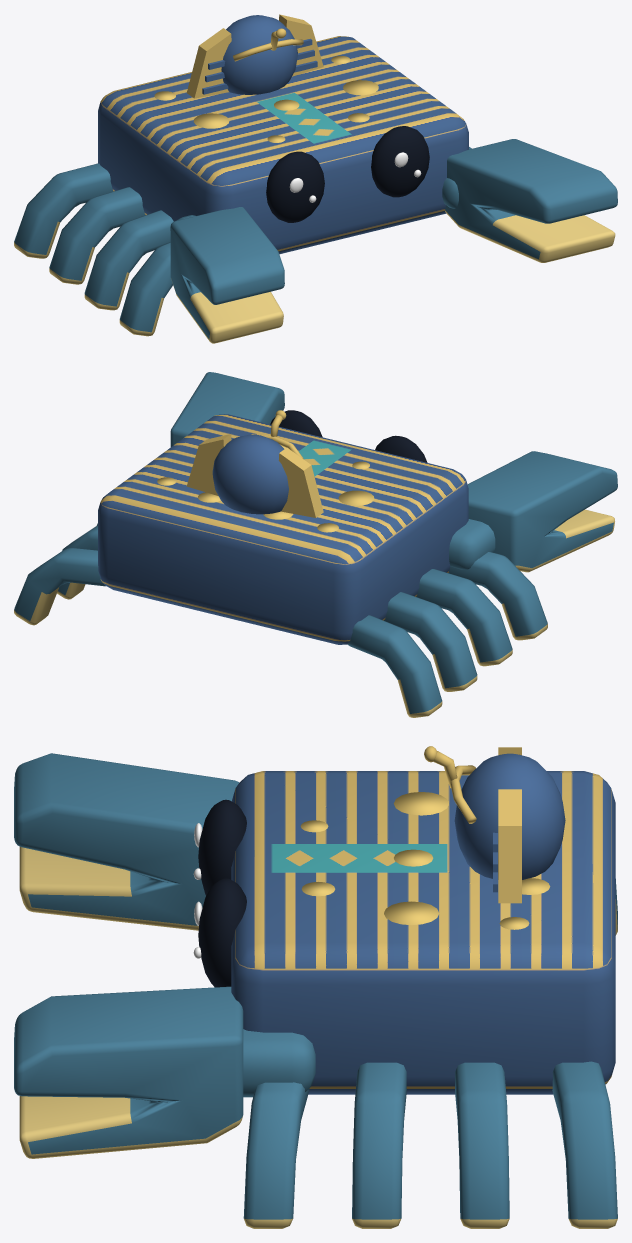
File: PharaohCrab.fbx
3 renders of one model, top to bottom at view 1: azimuth 30°, elevation 25°; view 2: azimuth 150°, elevation 25°; view 3: azimuth 270°, elevation 25°, orthographic. The views are drawn at different scales.
Visible parts, largest first — view 1: PharaohCrab_Body, PharaohCrab, PharaohCrab_Claw_R, PharaohCrab_Claw_L, PharaohCrab_Eye_L, PharaohCrab_Eye_R; view 2: PharaohCrab_Body, PharaohCrab, PharaohCrab_Claw_L, PharaohCrab_Claw_R, PharaohCrab_Arm_L, PharaohCrab_Eye_L, PharaohCrab_Eye_R; view 3: PharaohCrab_Body, PharaohCrab, PharaohCrab_Claw_R, PharaohCrab_Claw_L, PharaohCrab_Arm_R, PharaohCrab_Eye_R, PharaohCrab_Eye_L.
Part boxes in pixels (<box>): PharaohCrab_Body: <box>98,14,468,254</box>; PharaohCrab: <box>14,55,471,336</box>; PharaohCrab_Claw_R: <box>445,139,617,262</box>; PharaohCrab_Claw_L: <box>170,207,284,343</box>; PharaohCrab_Eye_L: <box>266,151,324,222</box>; PharaohCrab_Eye_R: <box>371,126,429,197</box>; PharaohCrab_Body: <box>98,410,468,644</box>; PharaohCrab: <box>14,445,547,717</box>; PharaohCrab_Claw_L: <box>467,451,617,572</box>; PharaohCrab_Claw_R: <box>170,372,284,446</box>; PharaohCrab_Arm_L: <box>449,519,495,569</box>; PharaohCrab_Eye_L: <box>375,435,427,462</box>; PharaohCrab_Eye_R: <box>270,410,322,437</box>; PharaohCrab_Body: <box>231,746,615,1094</box>; PharaohCrab: <box>243,792,617,1228</box>; PharaohCrab_Claw_R: <box>14,986,243,1158</box>; PharaohCrab_Claw_L: <box>14,753,239,930</box>; PharaohCrab_Arm_R: <box>243,1029,315,1097</box>; PharaohCrab_Eye_R: <box>198,878,246,987</box>; PharaohCrab_Eye_L: <box>198,799,246,895</box>.
Bounding box in the file's own units: 374 × 187 × 305.
2 materials, 2 textured.
